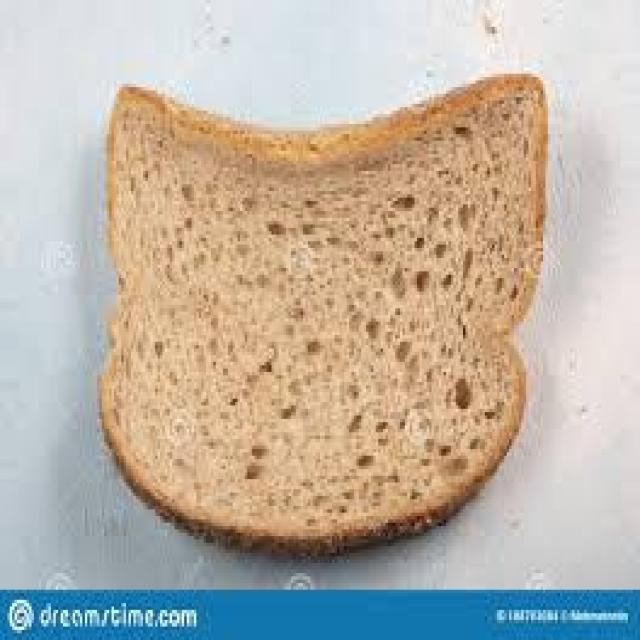BiologicalWaste: (34, 34, 554, 564)
